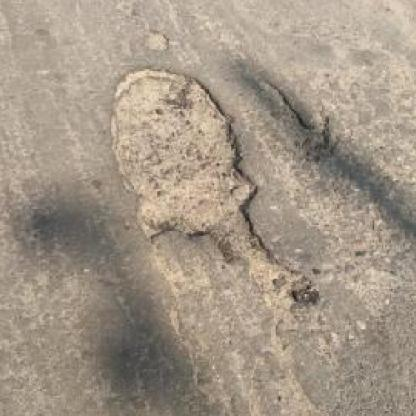pothole: (124, 74, 248, 247), (256, 76, 336, 160), (144, 29, 173, 52)
